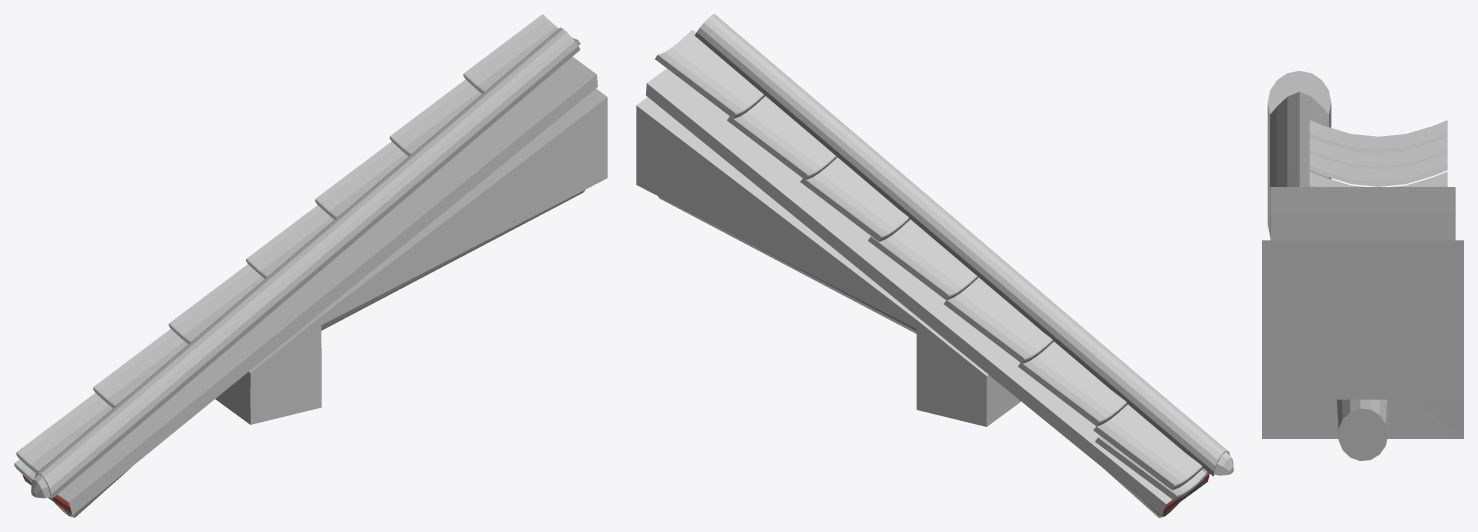
File: SM_Roof_40.fbx
The picture shows the model from 3 angles, left to right: view 1: azimuth 30°, elevation 25°; view 2: azimuth 150°, elevation 25°; view 3: azimuth 270°, elevation 25°; orthographic projection. The views are drawn at different scales.
Parts seen in each view (by area): view 1: SM_Roof_40_LOD0; view 2: SM_Roof_40_LOD0; view 3: SM_Roof_40_LOD0.
Part boxes in pixels (x1,y1,x2,y2): SM_Roof_40_LOD0: (14, 14, 607, 517); SM_Roof_40_LOD0: (636, 14, 1233, 517); SM_Roof_40_LOD0: (1262, 71, 1463, 460).
Bounding box in the file's own units: 336 × 52.96 × 218.
